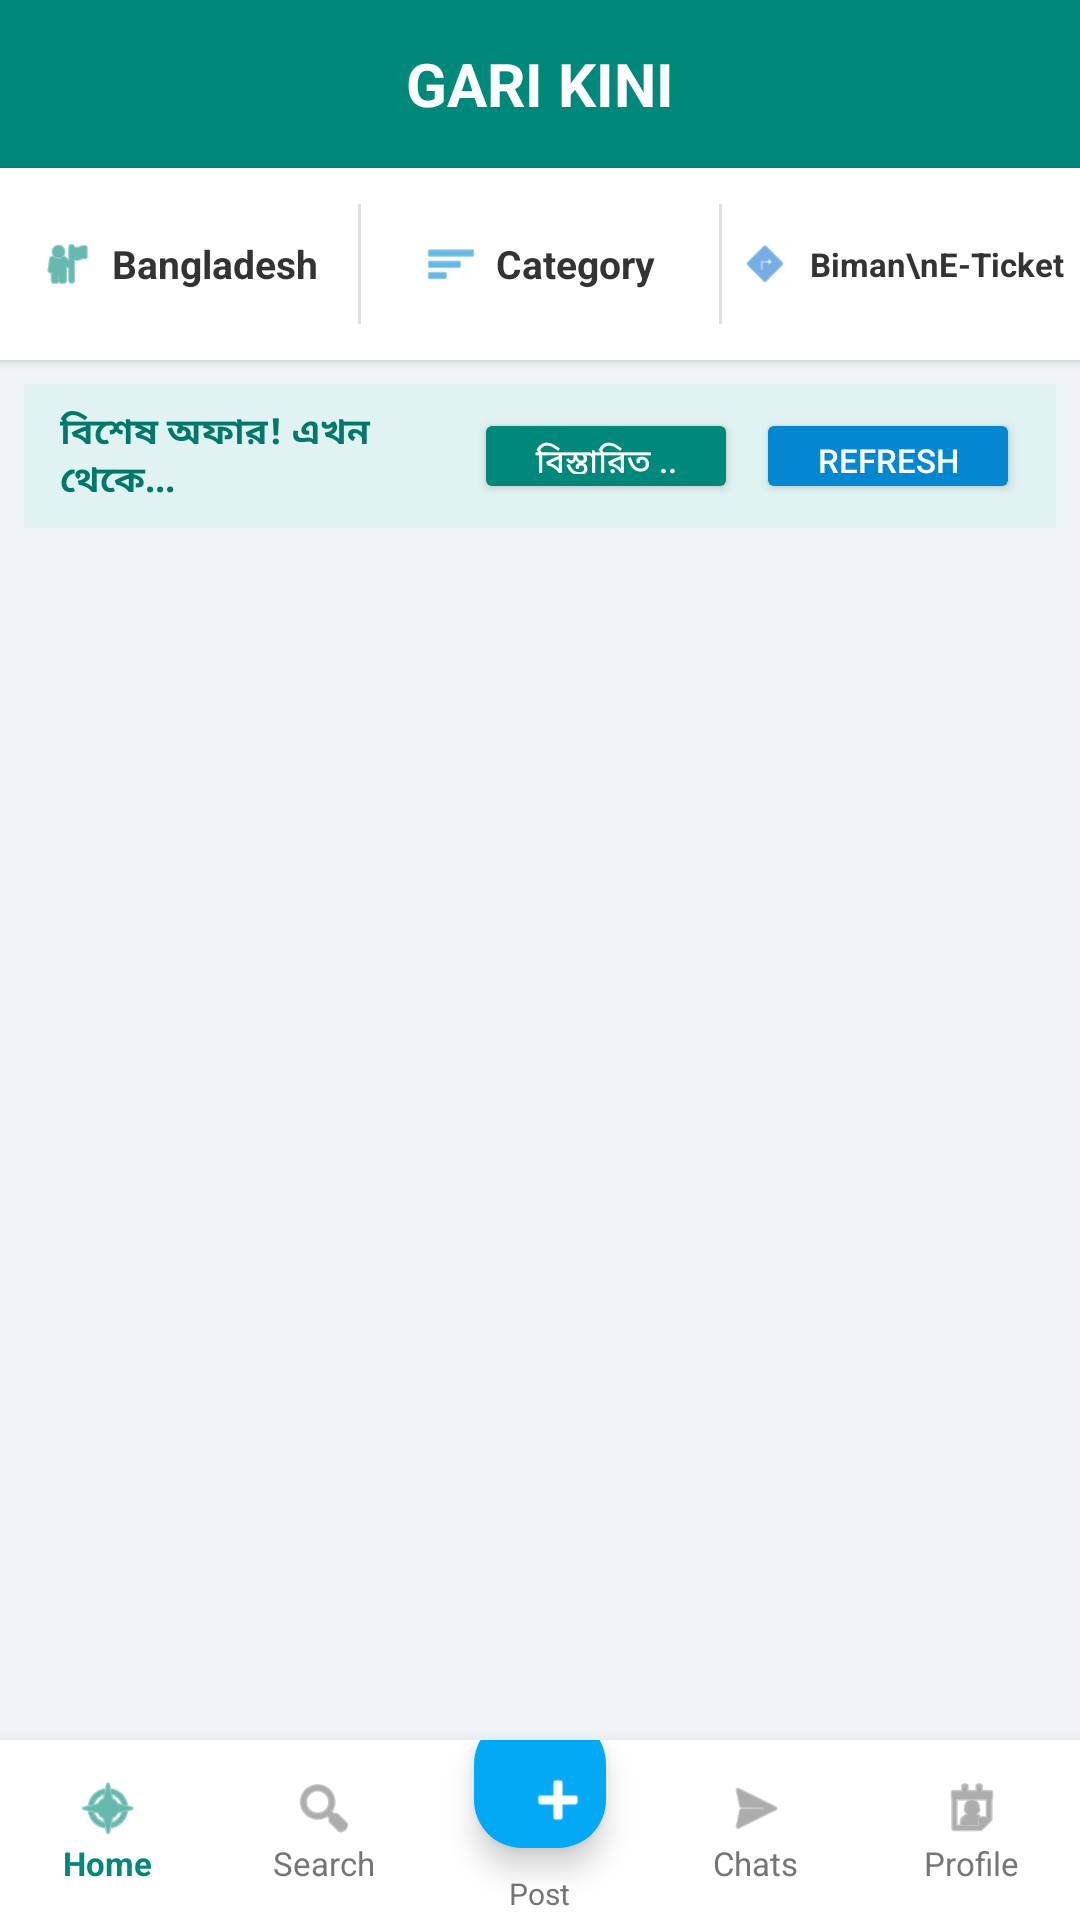

Screen size 1080px x 1920px. Icon name, then its box in pixels as {"x1": x1, "y1": y1, "x2": x2, "y2": y2}:
directions: {"x1": 746, "y1": 245, "x2": 784, "y2": 282}
send: {"x1": 736, "y1": 1788, "x2": 777, "y2": 1829}
